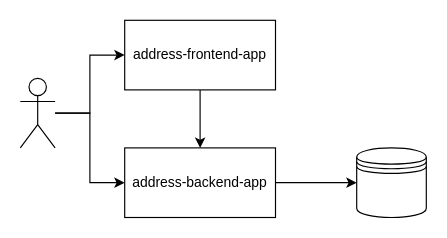
This 447x238 diagram has some shape labels left out. The centre of each missing label's shape, as x and y in pixels:
"Actor" belongs at (x=37, y=112).
"mongo" belongs at (x=391, y=182).
